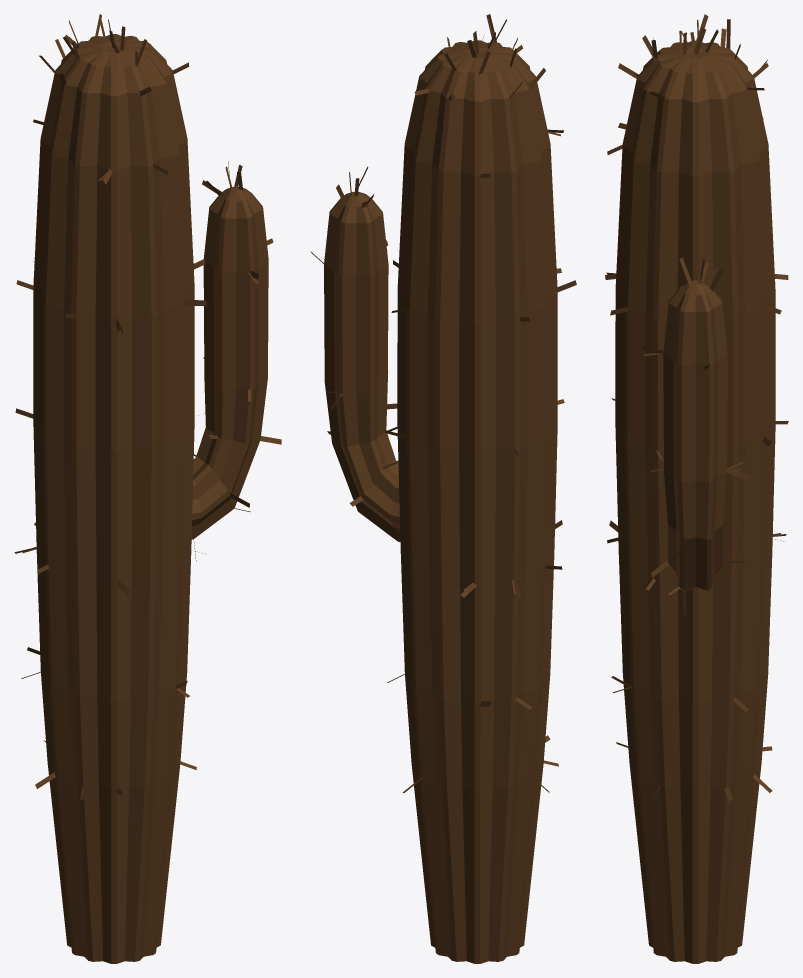
Rendered from SM_Succulent_Cactus_Tall_Mature_B.fbx.
The picture shows the model from 3 angles, left to right: view 1: azimuth 30°, elevation 25°; view 2: azimuth 150°, elevation 25°; view 3: azimuth 270°, elevation 25°; orthographic projection.
Parts seen in each view (by area): view 1: succulent-cactus-tall-mature-b; view 2: succulent-cactus-tall-mature-b; view 3: succulent-cactus-tall-mature-b.
Boxes of the visible parts, left/top/right/bottom form: succulent-cactus-tall-mature-b: left=14, top=14, right=281, bottom=963; succulent-cactus-tall-mature-b: left=310, top=14, right=576, bottom=963; succulent-cactus-tall-mature-b: left=605, top=14, right=788, bottom=963.
Bounding box in the file's own units: 0.6451 × 2.33 × 0.4236.
